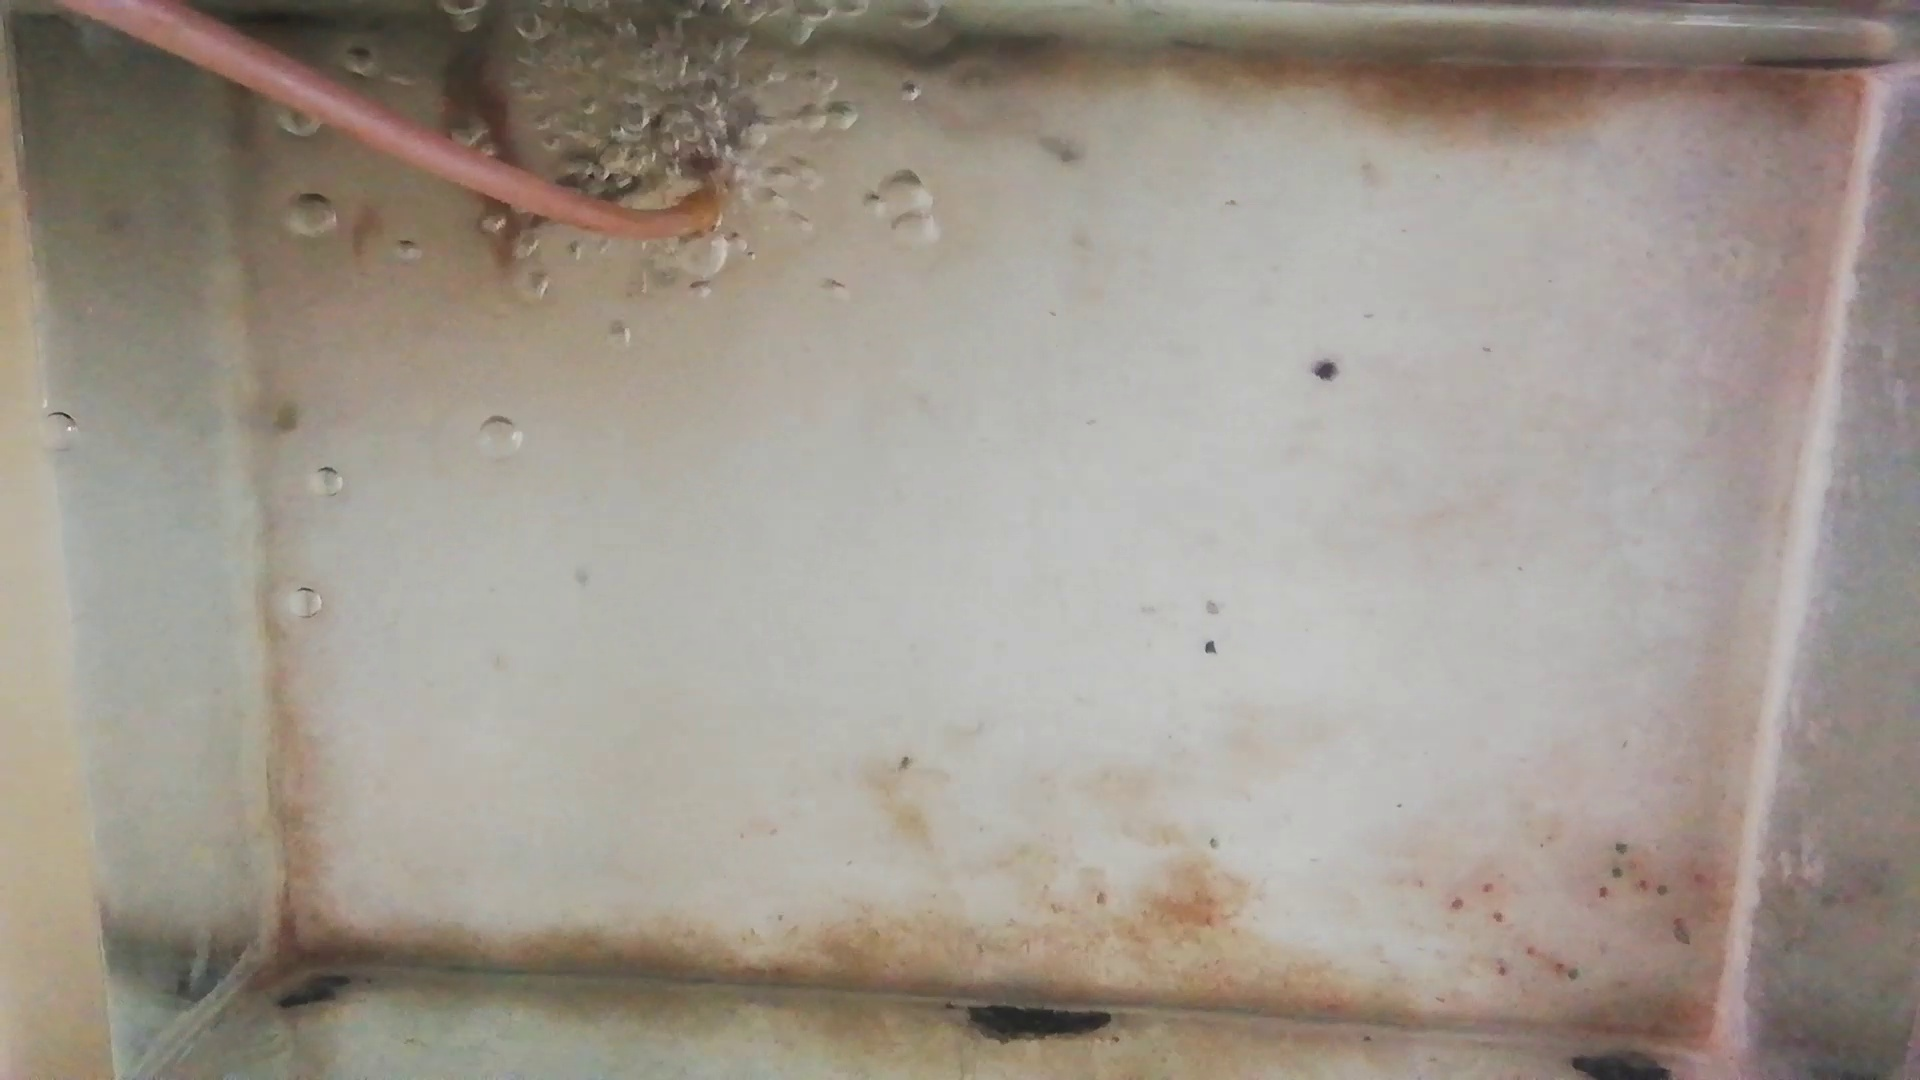fish: (454, 26, 520, 280), (545, 153, 655, 198)
